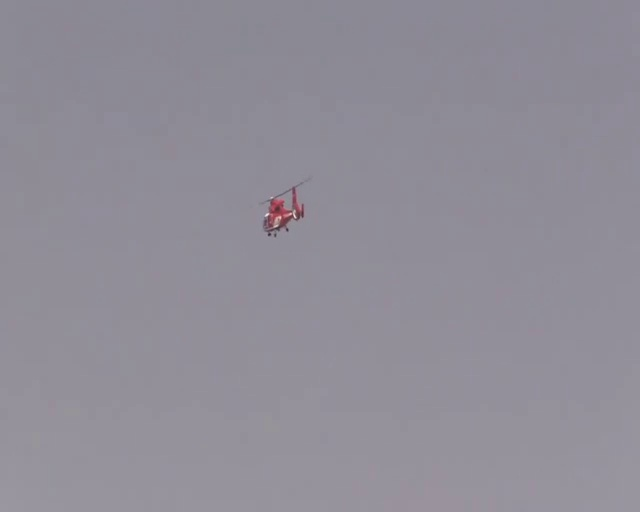HELICOPTER: (257, 174, 313, 238)
